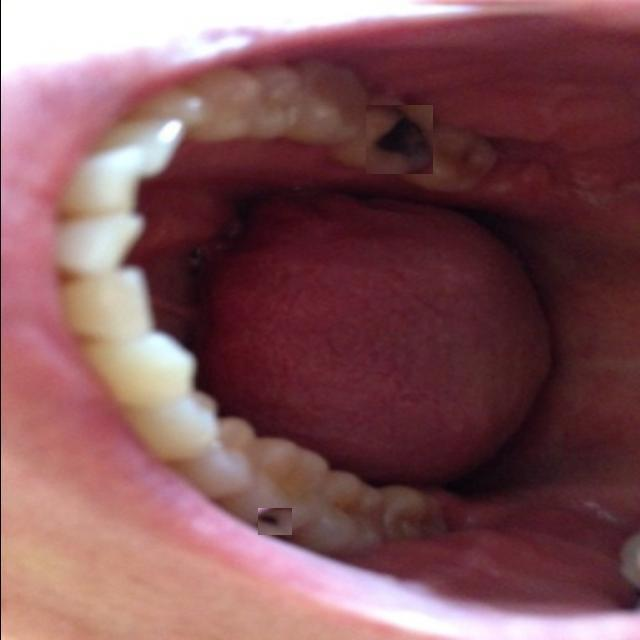caries: (365, 105, 432, 174), (257, 508, 291, 535)
